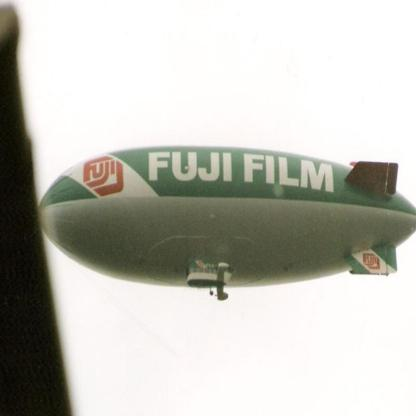Airship: (41, 142, 416, 300)
